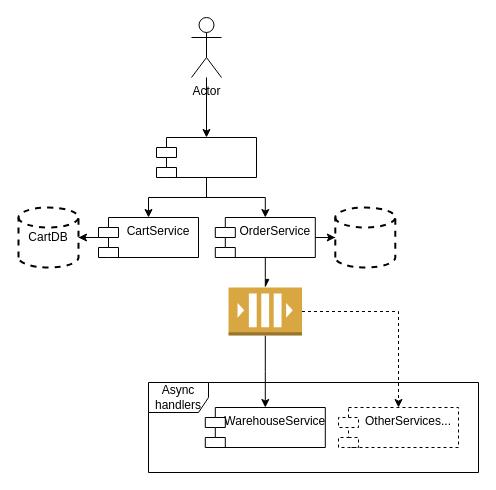
Some shapes in this 496 by 490 pixel diagram are drawn without their labels. The centre of each missing label's shape, as x and y in pixels:
"CartBackend" goes at pixel 206 157.
"OrderDB" goes at pixel 365 237.
"orders queue" goes at pixel 265 311.
